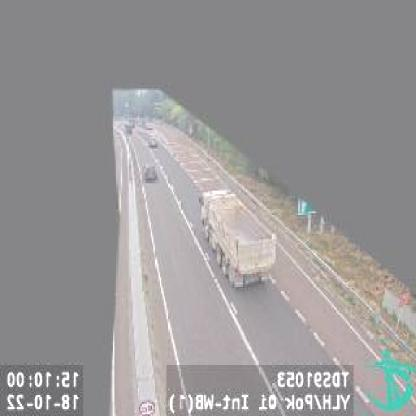Car: (144, 162, 158, 181), (147, 134, 157, 147)
Truck: (198, 189, 274, 289)
